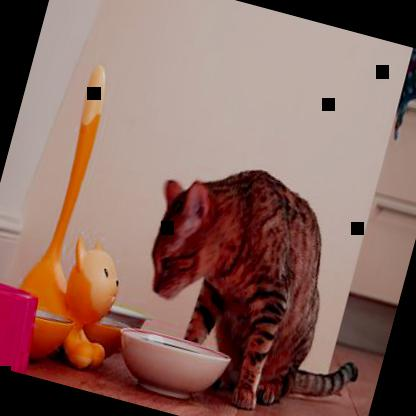cat: (114, 145, 404, 415)
